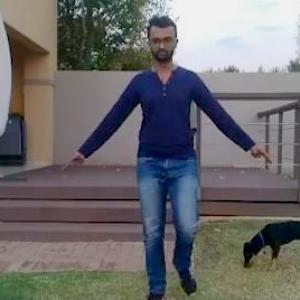land: (83, 32, 247, 294)
